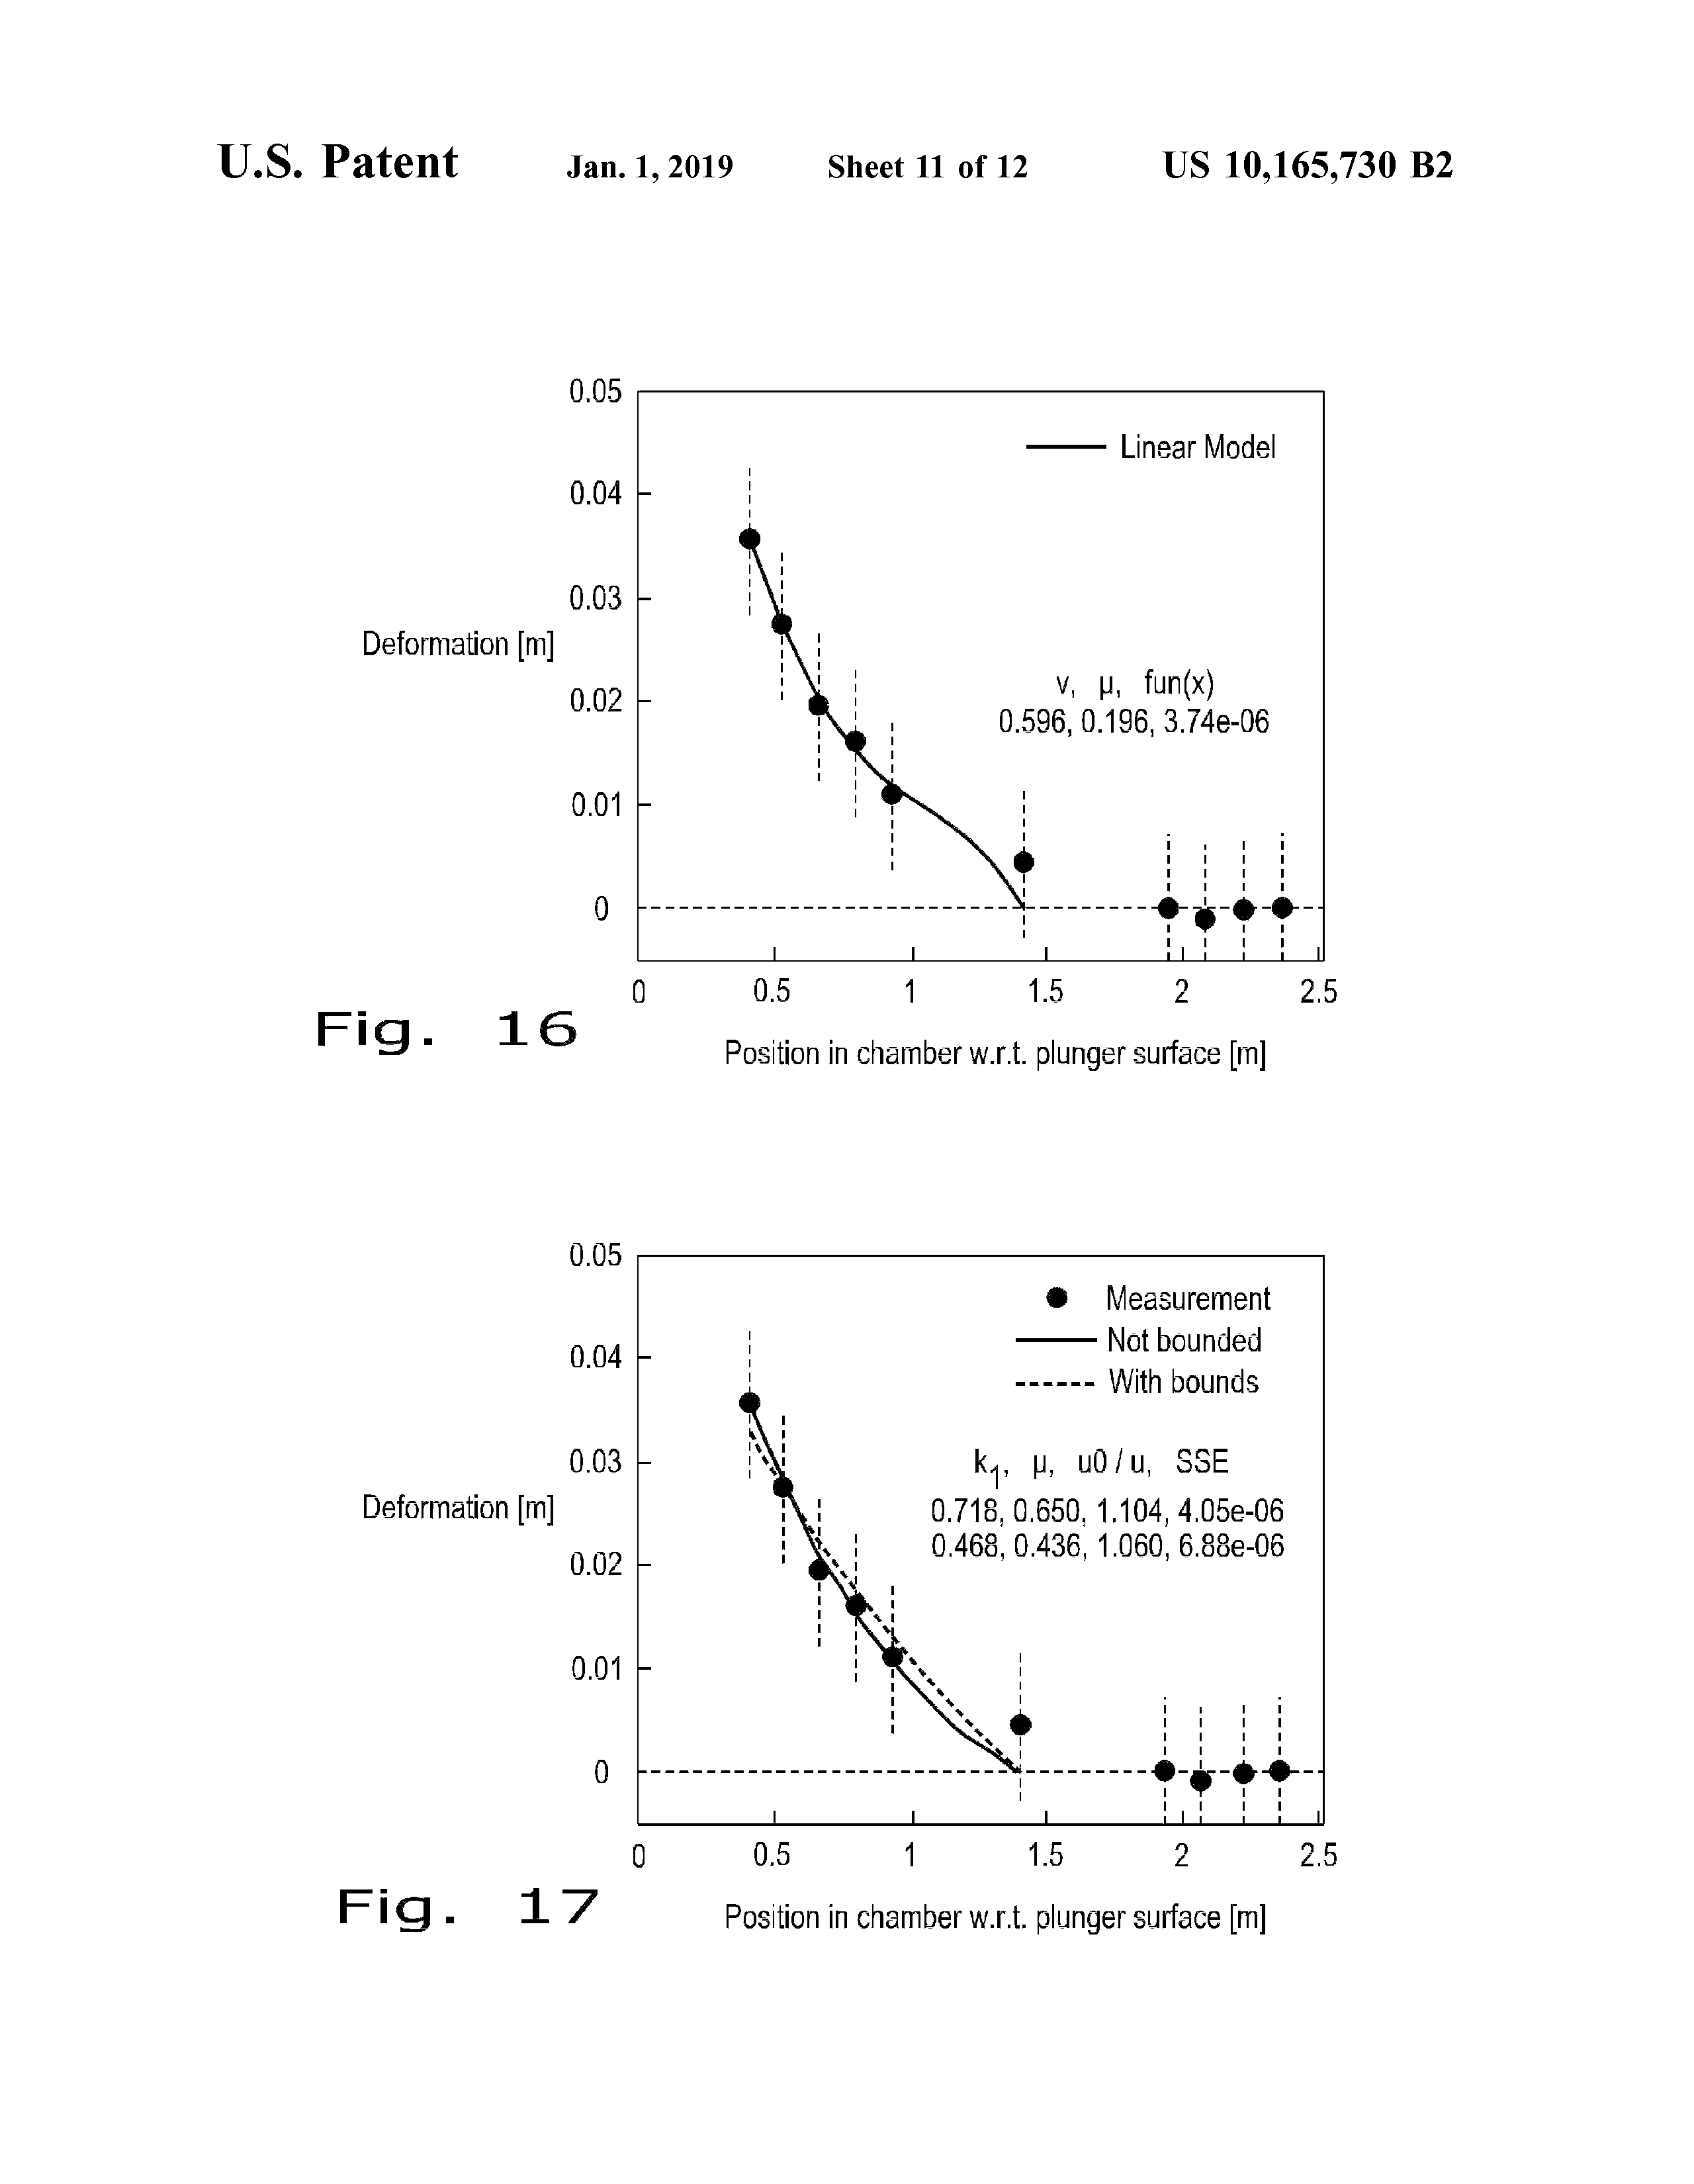patent image: (275, 342, 1398, 1125), (287, 1200, 1395, 1988)
